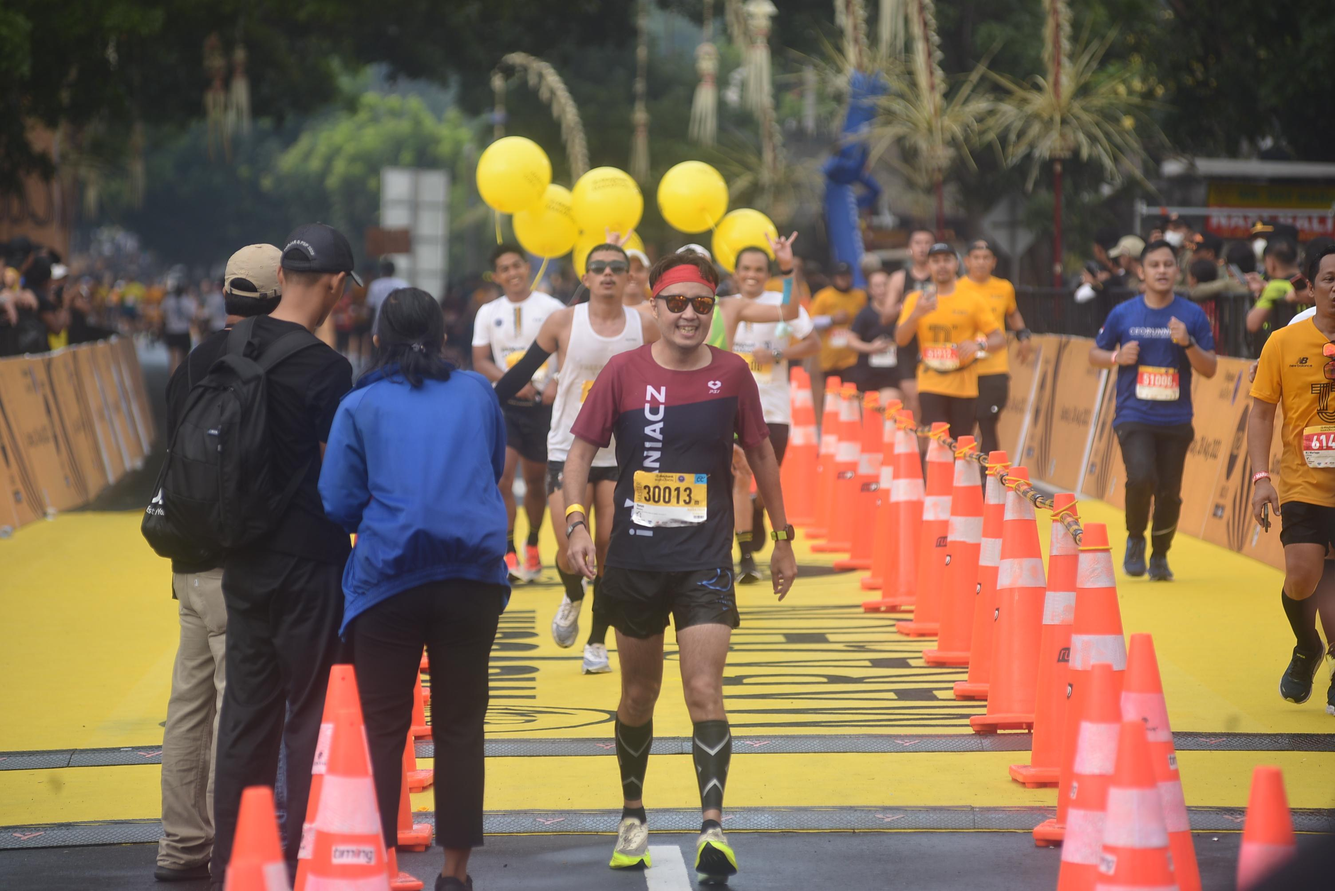bib: (634, 470, 707, 525), (1137, 364, 1180, 401), (1303, 424, 1335, 470), (742, 351, 770, 386), (924, 344, 958, 368)
